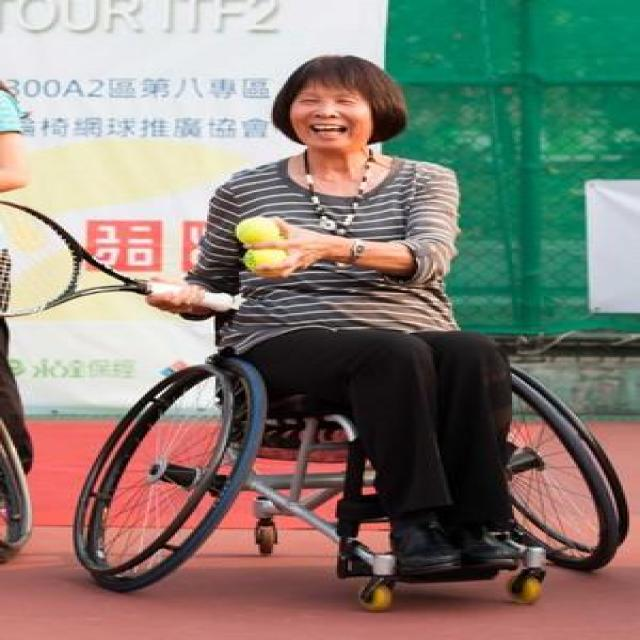wheelchairs: (42, 310, 640, 609)
